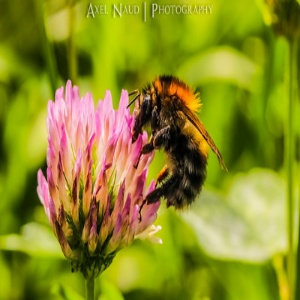bee: (129, 75, 226, 215)
